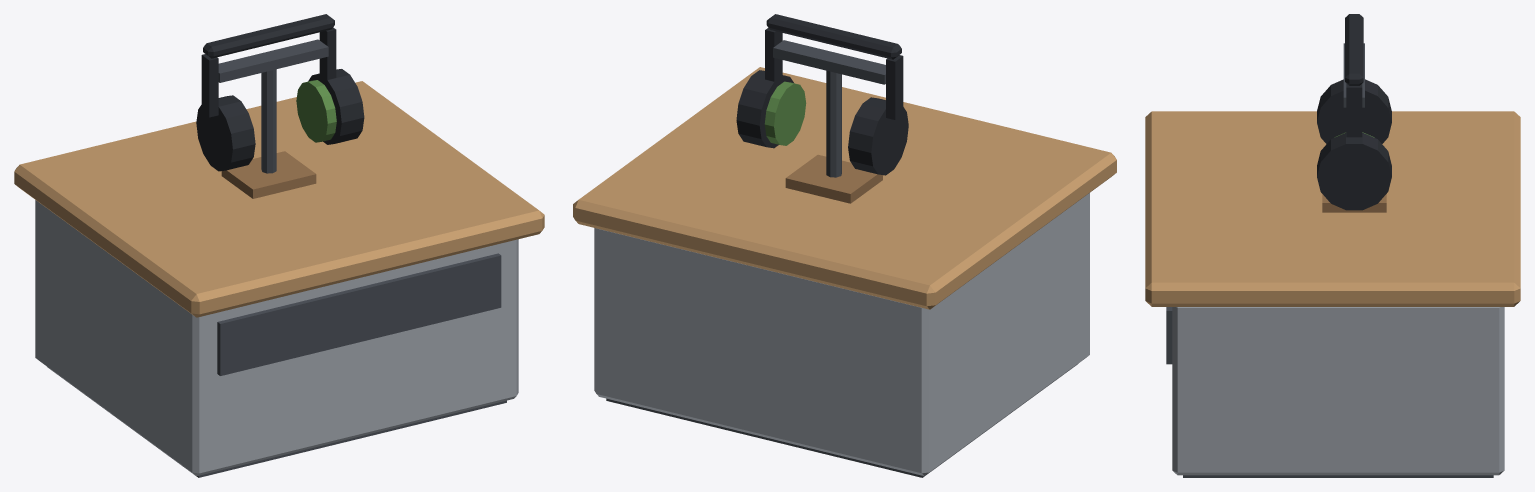
The model's file is headphones_2.glb.
3 views of the same model, side by side, from view 1: azimuth 30°, elevation 25°; view 2: azimuth 150°, elevation 25°; view 3: azimuth 270°, elevation 25° (orthographic). The views are drawn at different scales.
Visible parts, largest first — view 1: headphones_2_mesh_Desk, headphones_2_mesh; view 2: headphones_2_mesh_Desk, headphones_2_mesh; view 3: headphones_2_mesh_Desk, headphones_2_mesh.
Boxes of the visible parts, bbox=[...] form: headphones_2_mesh_Desk: bbox=[14, 81, 544, 477]; headphones_2_mesh: bbox=[196, 14, 364, 198]; headphones_2_mesh_Desk: bbox=[573, 67, 1116, 477]; headphones_2_mesh: bbox=[736, 14, 908, 203]; headphones_2_mesh_Desk: bbox=[1145, 111, 1520, 477]; headphones_2_mesh: bbox=[1317, 14, 1391, 212].
Bounding box in the file's own units: 0.78 × 0.735 × 0.7.
